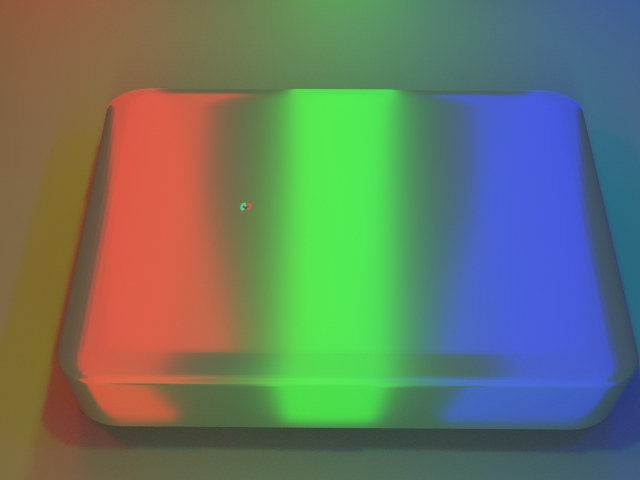dent: (223, 190, 254, 227)
